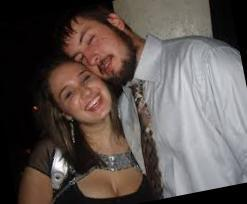Drunk: (66, 19, 128, 77), (52, 62, 108, 120)
